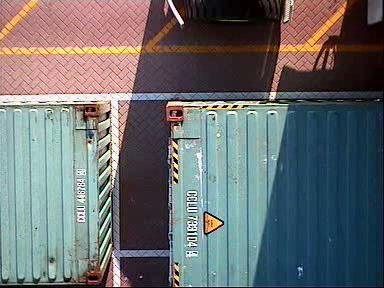groundmarker_2: (10, 259, 79, 288), (8, 48, 77, 77), (10, 96, 78, 125)
